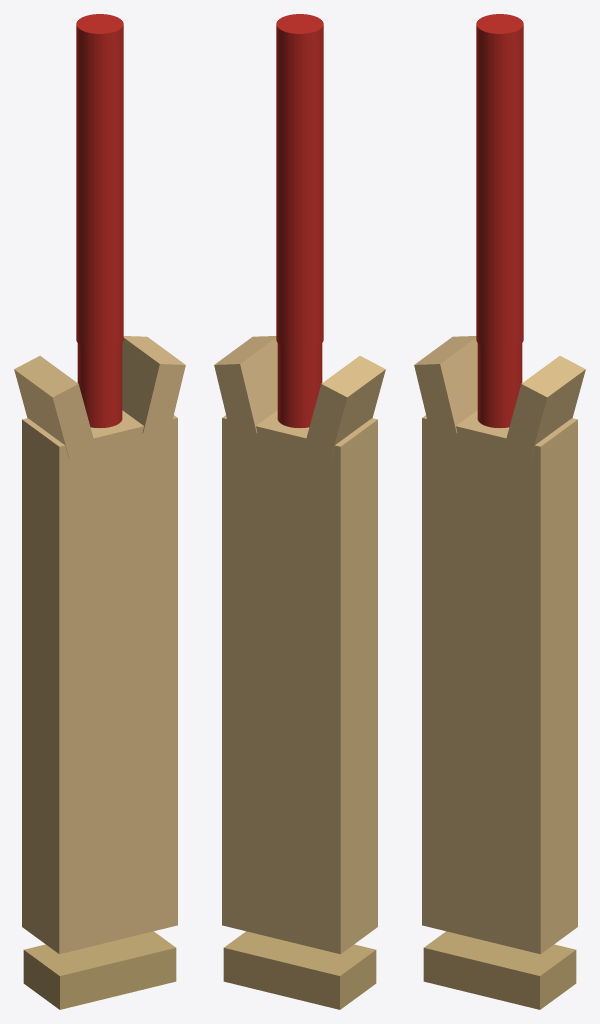
Rendered from ai_parts_75985c.glb.
3 views of the same model, side by side, from view 1: azimuth 30°, elevation 25°; view 2: azimuth 150°, elevation 25°; view 3: azimuth 330°, elevation 25° (orthographic).
Parts seen in each view (by area): view 1: 00_blade, 03_grip, 01_toe, 05_shoulder_right, 04_shoulder_left, 02_handle; view 2: 00_blade, 03_grip, 01_toe, 05_shoulder_right, 04_shoulder_left, 02_handle; view 3: 00_blade, 03_grip, 01_toe, 04_shoulder_left, 05_shoulder_right, 02_handle.
Boxes of the visible parts, x1,y1,x2,y2 form: 00_blade: (22,410,177,954); 03_grip: (76,14,123,349); 01_toe: (23,931,176,1009); 05_shoulder_right: (122,336,185,434); 04_shoulder_left: (14,356,95,458); 02_handle: (77,14,122,427); 00_blade: (222,410,377,954); 03_grip: (276,14,323,349); 01_toe: (223,931,376,1009); 05_shoulder_right: (214,336,277,434); 04_shoulder_left: (304,356,385,458); 02_handle: (277,14,322,427); 00_blade: (422,410,577,954); 03_grip: (476,14,523,349); 01_toe: (423,931,576,1009); 04_shoulder_left: (414,336,477,434); 05_shoulder_right: (504,356,585,458); 02_handle: (477,14,522,427).
Bounding box in the file's own units: 12.37 × 85 × 6.2.
